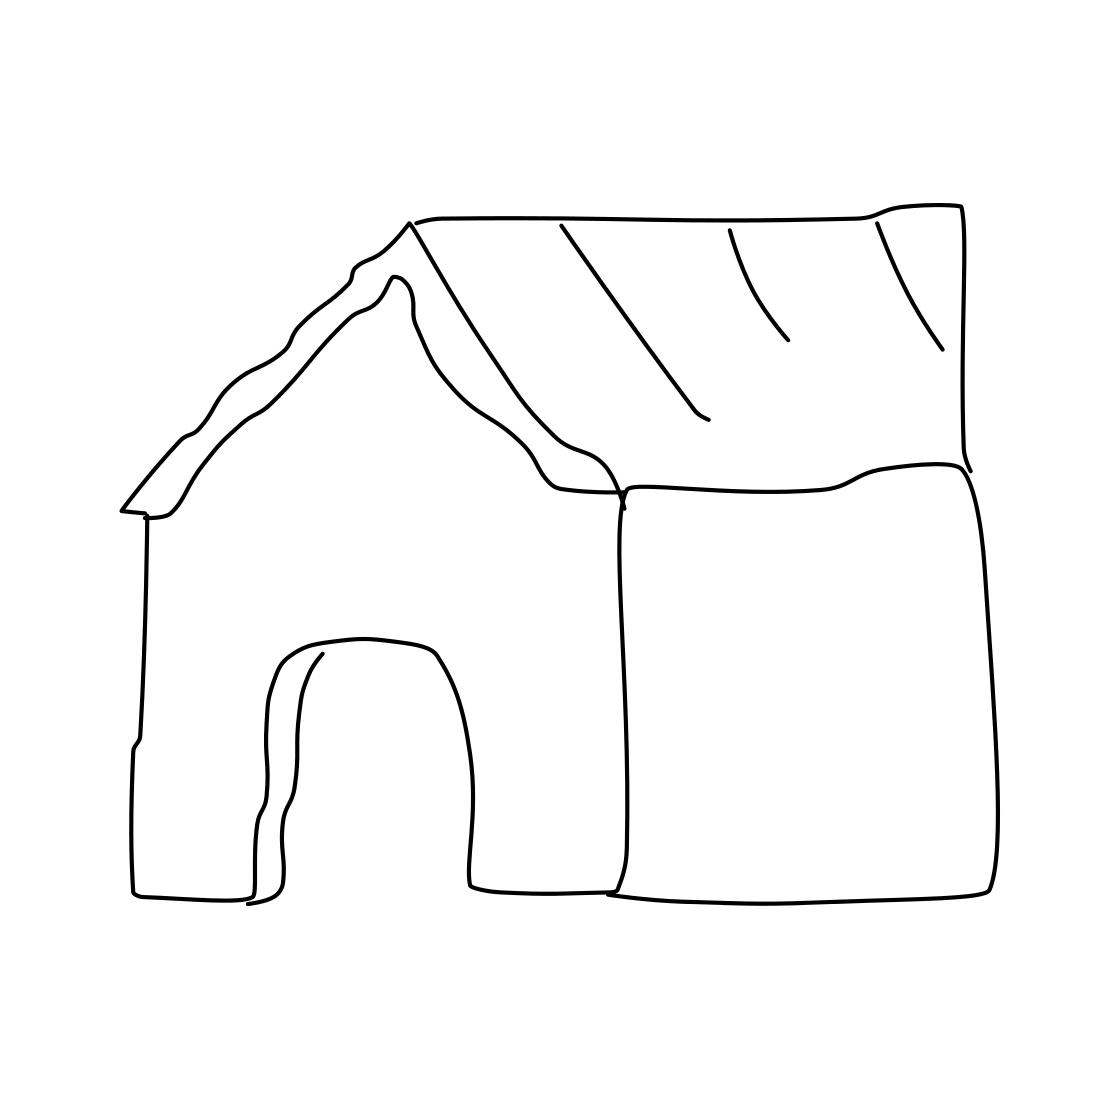door: (232, 615, 493, 920)
house: (81, 172, 1029, 925)
roof: (80, 178, 1016, 570)
wall: (123, 335, 1010, 914)
